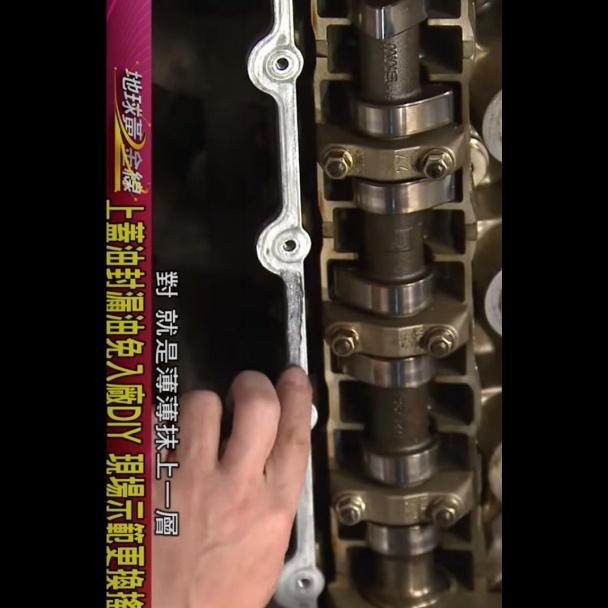hole: (272, 55, 290, 75), (282, 238, 298, 253)
